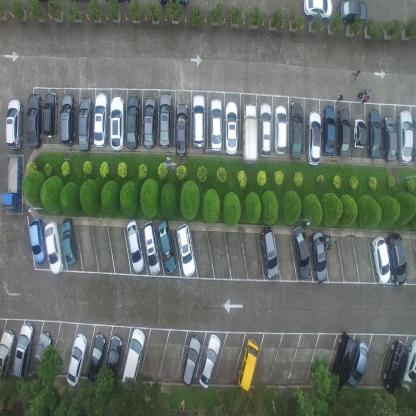car: (328, 330, 358, 392), (121, 327, 145, 389), (383, 339, 409, 395), (12, 321, 35, 379), (1, 153, 23, 213), (200, 332, 222, 388), (102, 334, 122, 393), (385, 231, 407, 284), (156, 218, 177, 273), (238, 337, 259, 391), (66, 333, 87, 387), (44, 221, 64, 276), (126, 219, 146, 274), (31, 330, 53, 380), (176, 222, 196, 276), (182, 335, 203, 386), (142, 220, 161, 275), (292, 223, 310, 280), (5, 97, 24, 150), (87, 331, 106, 384), (370, 235, 390, 285), (260, 223, 278, 278), (309, 229, 327, 283), (348, 340, 368, 388), (243, 102, 258, 164), (26, 92, 42, 150), (60, 218, 78, 268), (93, 92, 109, 148), (398, 109, 414, 165), (60, 92, 76, 147), (224, 101, 239, 156), (306, 110, 321, 164), (0, 328, 15, 382), (29, 219, 46, 266), (401, 338, 415, 395), (192, 94, 206, 150), (158, 92, 172, 148), (126, 94, 140, 150), (110, 95, 124, 151), (78, 96, 92, 152), (42, 90, 58, 139), (258, 102, 272, 158), (367, 108, 382, 160), (289, 100, 302, 160), (174, 102, 188, 157), (142, 94, 156, 149), (209, 98, 223, 152), (382, 113, 397, 162), (336, 106, 350, 158), (321, 104, 335, 155), (274, 104, 287, 156), (338, 0, 367, 23), (303, 0, 332, 20), (352, 117, 367, 149), (158, 0, 190, 10)
